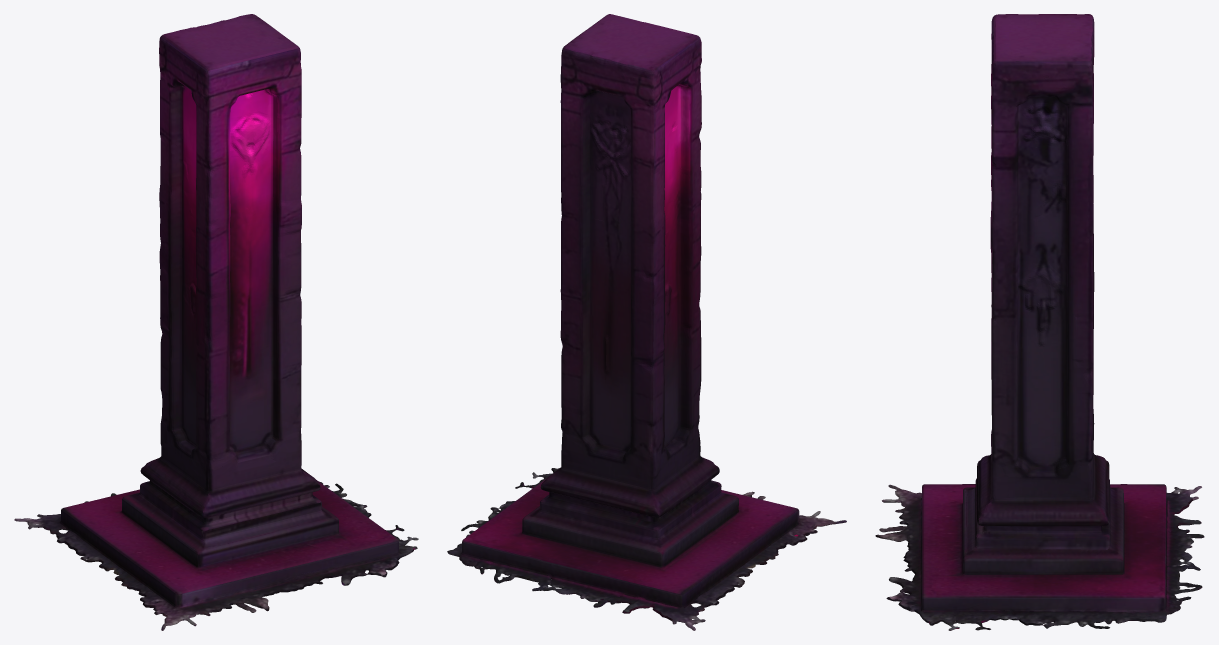
The model's file is weathered-monolith-pillar-generated-2026-04-19T23-39-39-599Z.high.glb.
The picture shows the model from 3 angles, left to right: view 1: azimuth 30°, elevation 25°; view 2: azimuth 150°, elevation 25°; view 3: azimuth 270°, elevation 25°; orthographic projection. The views are drawn at different scales.
Parts seen in each view (by area): view 1: temp_mesh.ply; view 2: temp_mesh.ply; view 3: temp_mesh.ply.
Boxes of the visible parts, bbox=[...] form: temp_mesh.ply: bbox=[14, 14, 418, 630]; temp_mesh.ply: bbox=[447, 14, 846, 630]; temp_mesh.ply: bbox=[875, 14, 1204, 630].
Bounding box in the file's own units: 1.18 × 1.97 × 1.13.
Materials: 1 (1 with a texture image).
